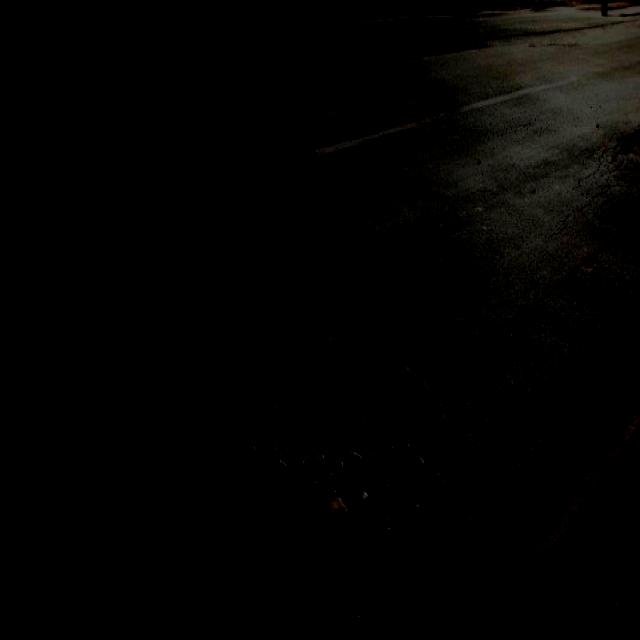Pothole: (175, 317, 439, 577), (261, 49, 442, 146)
